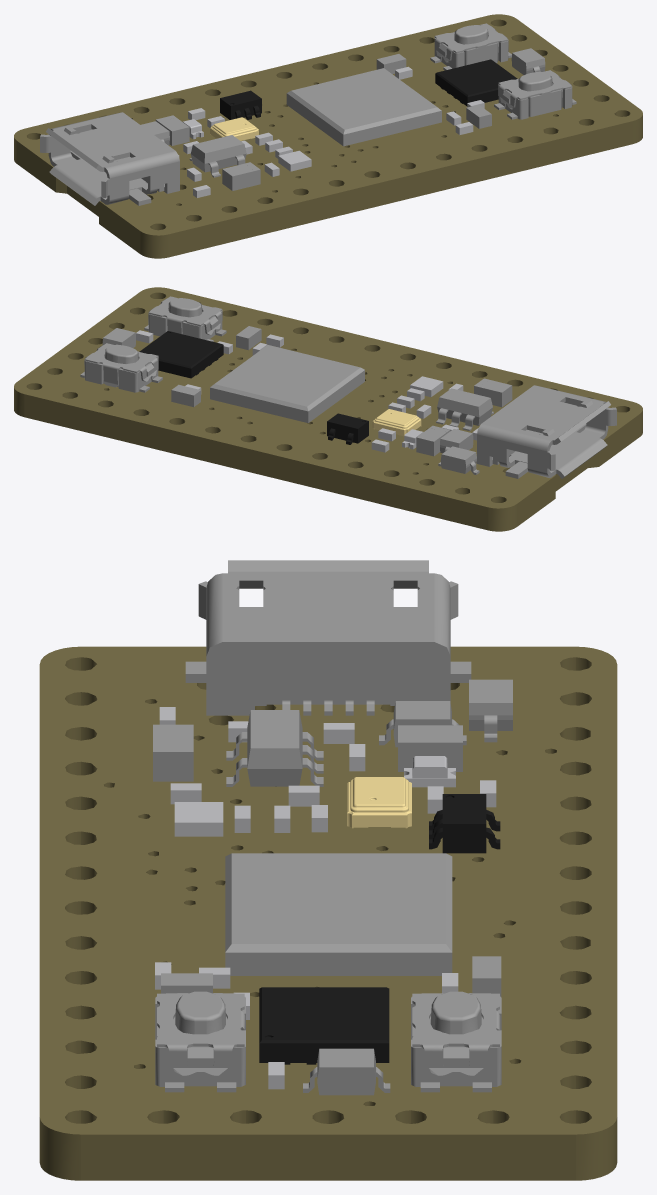
The model's file is ada-4888.glb.
3 views of the same model, one above another, from view 1: azimuth 30°, elevation 25°; view 2: azimuth 150°, elevation 25°; view 3: azimuth 270°, elevation 25° (orthographic). The views are drawn at different scales.
Parts seen in each view (by area): view 1: 0.16666666666666666_0.16666666666666666_0.08333333333333333_, 0.3333333333333333_0.3333333333333333_0.3333333333333333_0, 0_0_0_0, 0.5833333333333334_0.5833333333333334_0.5833333333333334_0.8, 0.9166666666666666_0.75_0.3333333333333333_0.9; view 2: 0.16666666666666666_0.16666666666666666_0.08333333333333333_, 0.3333333333333333_0.3333333333333333_0.3333333333333333_0, 0_0_0_0, 0.5833333333333334_0.5833333333333334_0.5833333333333334_0.8, 0.9166666666666666_0.75_0.3333333333333333_0.9; view 3: 0.16666666666666666_0.16666666666666666_0.08333333333333333_, 0.3333333333333333_0.3333333333333333_0.3333333333333333_0, 0_0_0_0, 0.5833333333333334_0.5833333333333334_0.5833333333333334_0.8, 0.9166666666666666_0.75_0.3333333333333333_0.9.
Boxes of the visible parts, bbox=[...] form: 0.16666666666666666_0.16666666666666666_0.08333333333333333_: bbox=[14, 14, 642, 258]; 0.3333333333333333_0.3333333333333333_0.3333333333333333_0: bbox=[40, 23, 576, 205]; 0_0_0_0: bbox=[220, 59, 517, 119]; 0.5833333333333334_0.5833333333333334_0.5833333333333334_0.8: bbox=[178, 66, 484, 197]; 0.9166666666666666_0.75_0.3333333333333333_0.9: bbox=[210, 117, 258, 140]; 0.16666666666666666_0.16666666666666666_0.08333333333333333_: bbox=[14, 287, 642, 531]; 0.3333333333333333_0.3333333333333333_0.3333333333333333_0: bbox=[80, 296, 616, 478]; 0_0_0_0: bbox=[139, 331, 368, 444]; 0.5833333333333334_0.5833333333333334_0.5833333333333334_0.8: bbox=[135, 330, 478, 452]; 0.9166666666666666_0.75_0.3333333333333333_0.9: bbox=[372, 409, 421, 436]; 0.16666666666666666_0.16666666666666666_0.08333333333333333_: bbox=[39, 646, 617, 1180]; 0.3333333333333333_0.3333333333333333_0.3333333333333333_0: bbox=[153, 560, 512, 1095]; 0_0_0_0: bbox=[259, 794, 500, 1064]; 0.5833333333333334_0.5833333333333334_0.5833333333333334_0.8: bbox=[155, 707, 496, 1089]; 0.9166666666666666_0.75_0.3333333333333333_0.9: bbox=[347, 777, 411, 828].
Size of the model in its own units: 3.61 by 0.4345 by 1.78.
